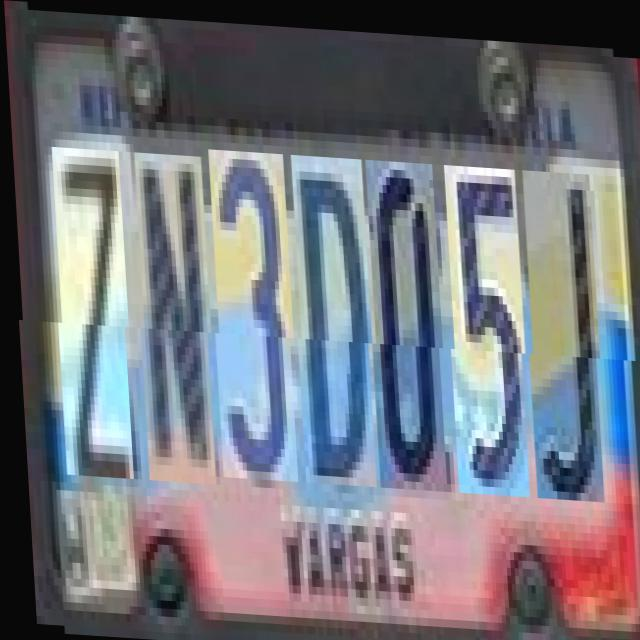0: (364, 155, 446, 486)
3: (206, 146, 296, 478)
5: (442, 158, 528, 491)
D: (289, 150, 375, 482)
J: (520, 163, 602, 494)
N: (133, 151, 215, 482)
Z: (50, 146, 132, 478)
